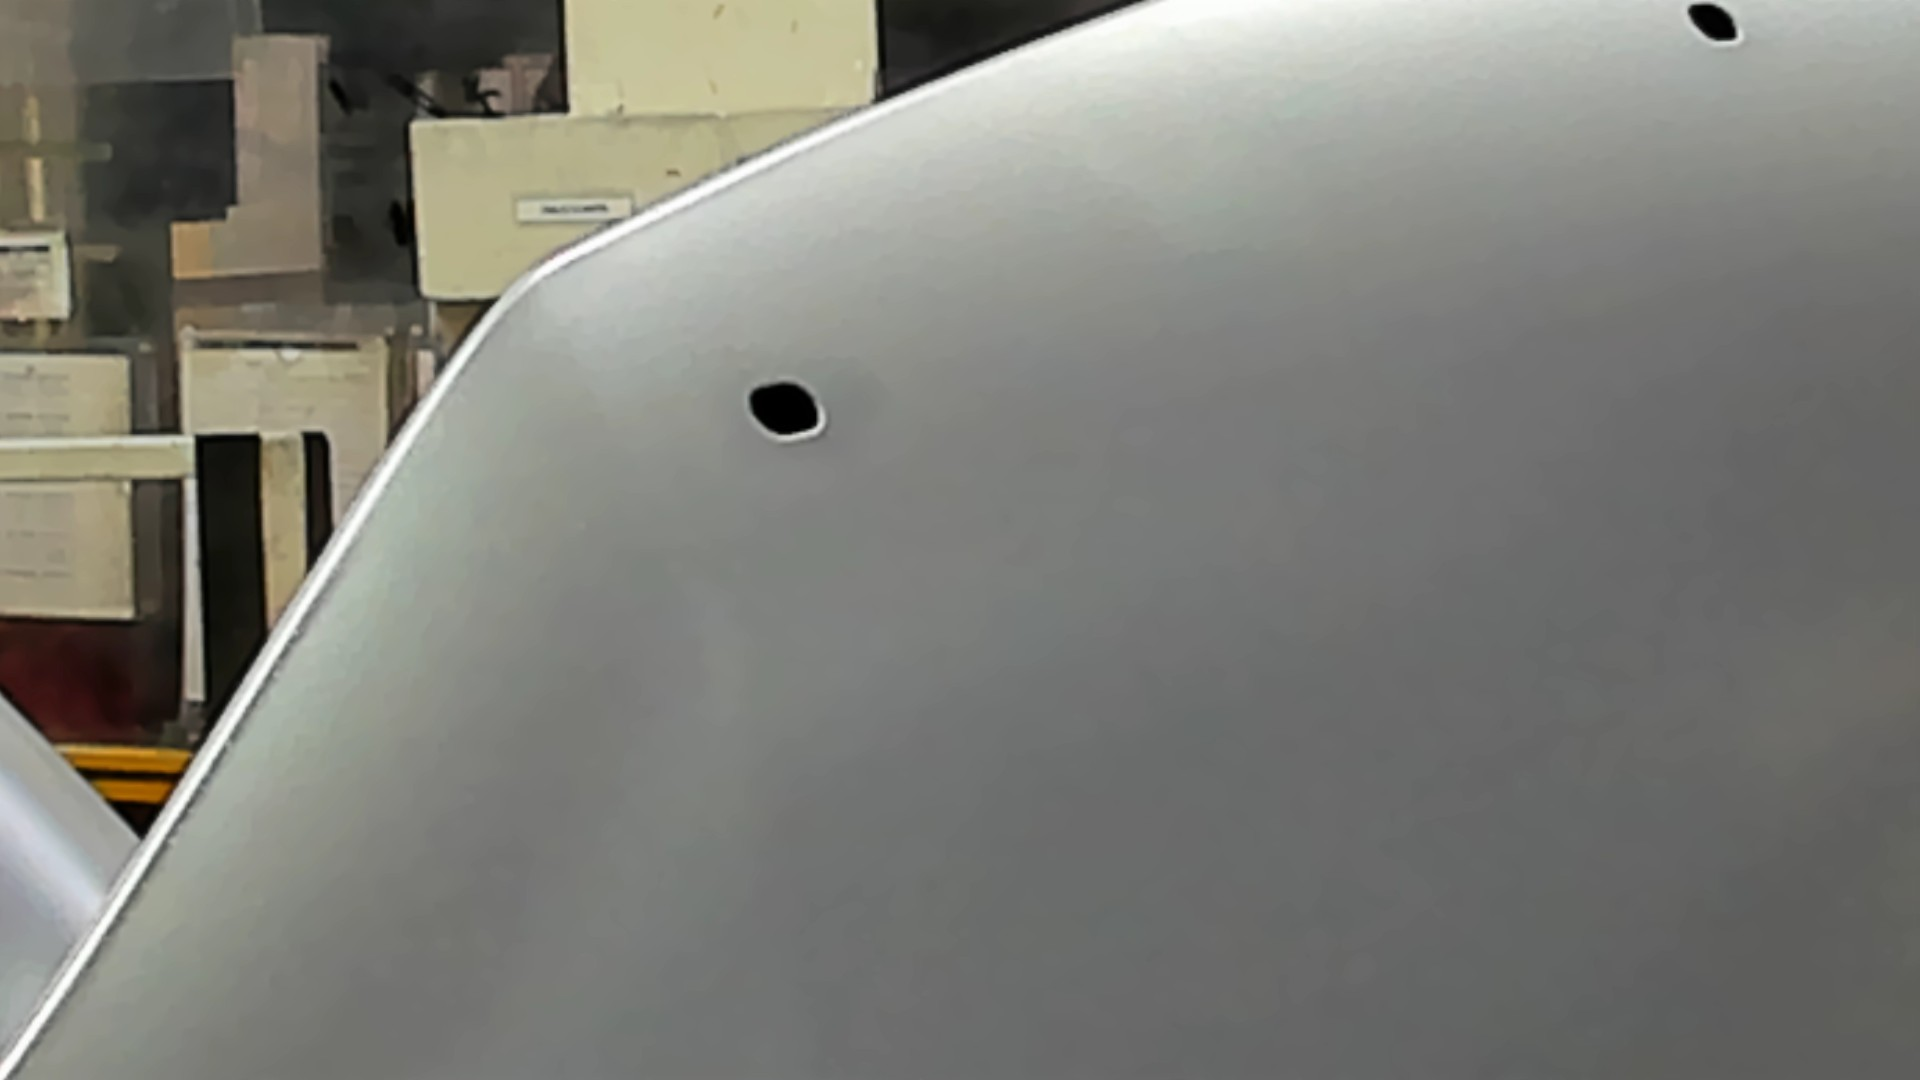amorfo: (738, 376, 828, 448), (1679, 1, 1747, 50)
